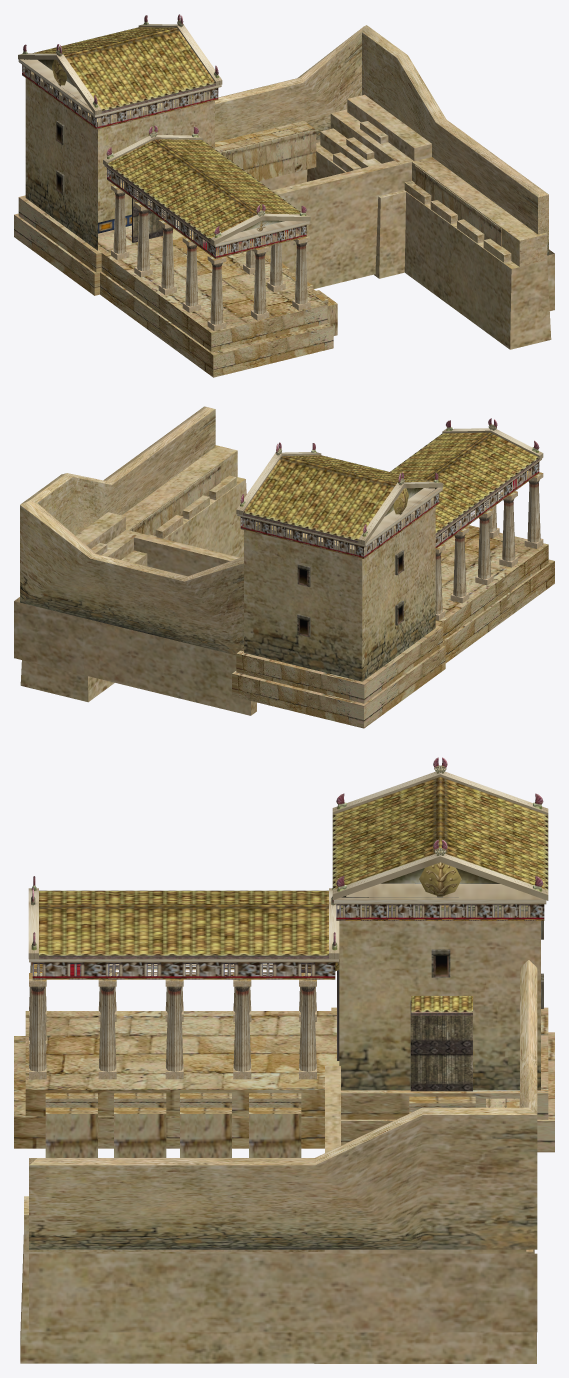
Rendered from range.dae.
The picture shows the model from 3 angles, top to bottom: view 1: azimuth 30°, elevation 25°; view 2: azimuth 150°, elevation 25°; view 3: azimuth 270°, elevation 25°; orthographic projection. The views are drawn at different scales.
Parts seen in each view (by area): view 1: range; view 2: range; view 3: range.
Part boxes in pixels (x1,y1,x2,y2): range: [14, 14, 554, 377]; range: [14, 406, 554, 728]; range: [14, 757, 554, 1363].
Bounding box in the file's own units: 26.6 × 25.37 × 19.37.
